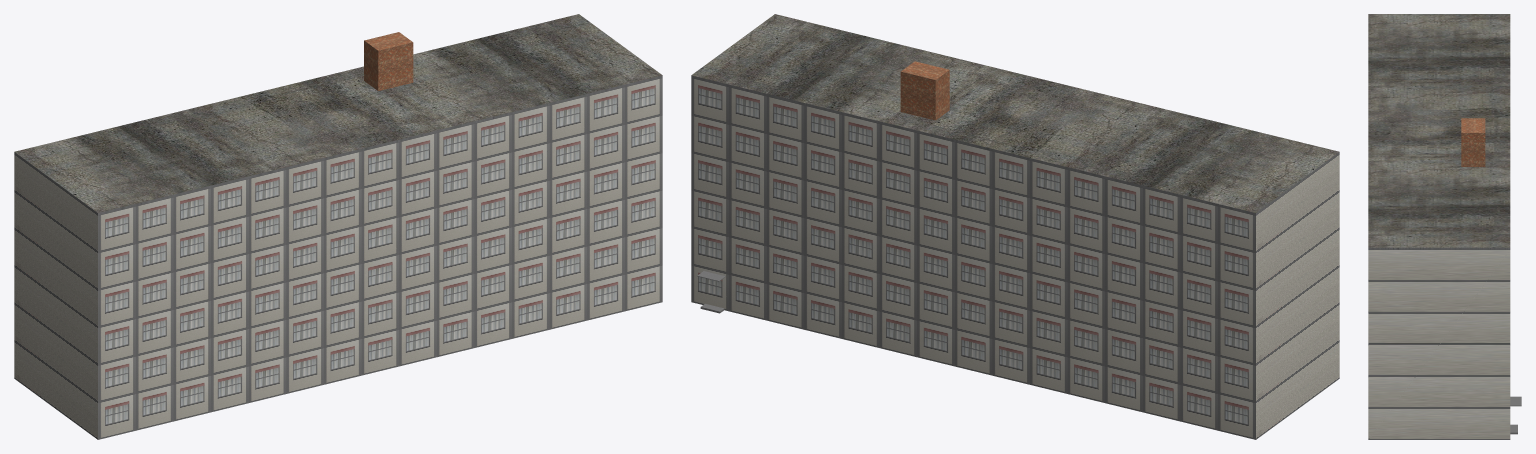
Rendered from LOD01_Building_7stores_PopularHouse.obj.
3 views of the same model, side by side, from view 1: azimuth 30°, elevation 25°; view 2: azimuth 150°, elevation 25°; view 3: azimuth 270°, elevation 25° (orthographic). The views are drawn at different scales.
Parts seen in each view (by area): view 1: LOD01_Building_7stores_PopularHouse Mesh; view 2: LOD01_Building_7stores_PopularHouse Mesh; view 3: LOD01_Building_7stores_PopularHouse Mesh.
Part boxes in pixels (left/top/right/bottom): LOD01_Building_7stores_PopularHouse Mesh: left=14, top=14, right=662, bottom=439; LOD01_Building_7stores_PopularHouse Mesh: left=691, top=14, right=1339, bottom=439; LOD01_Building_7stores_PopularHouse Mesh: left=1368, top=14, right=1521, bottom=439.
Bounding box in the file's own units: 15.77 × 7.13 × 4.37.
